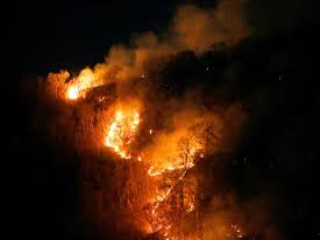fire: (146, 140, 207, 176), (103, 108, 141, 157), (53, 73, 84, 101)
smoke: (80, 30, 225, 93)
